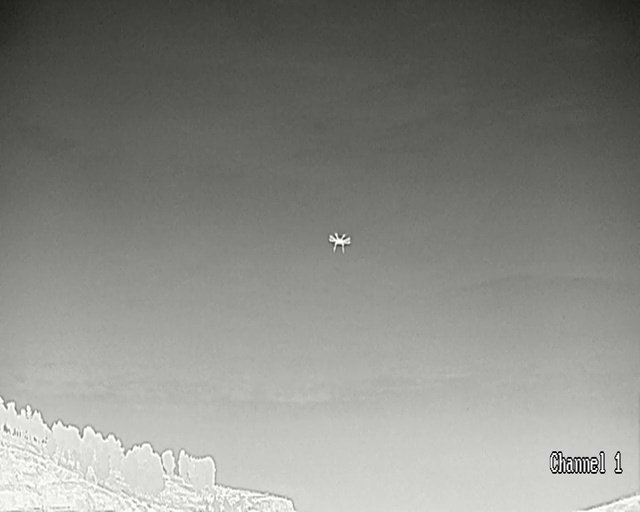uav: (328, 232, 350, 253)
